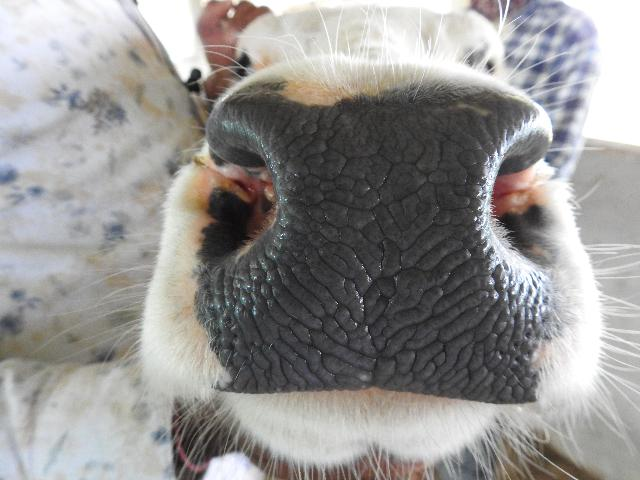Muzzle: (264, 103, 500, 394)
